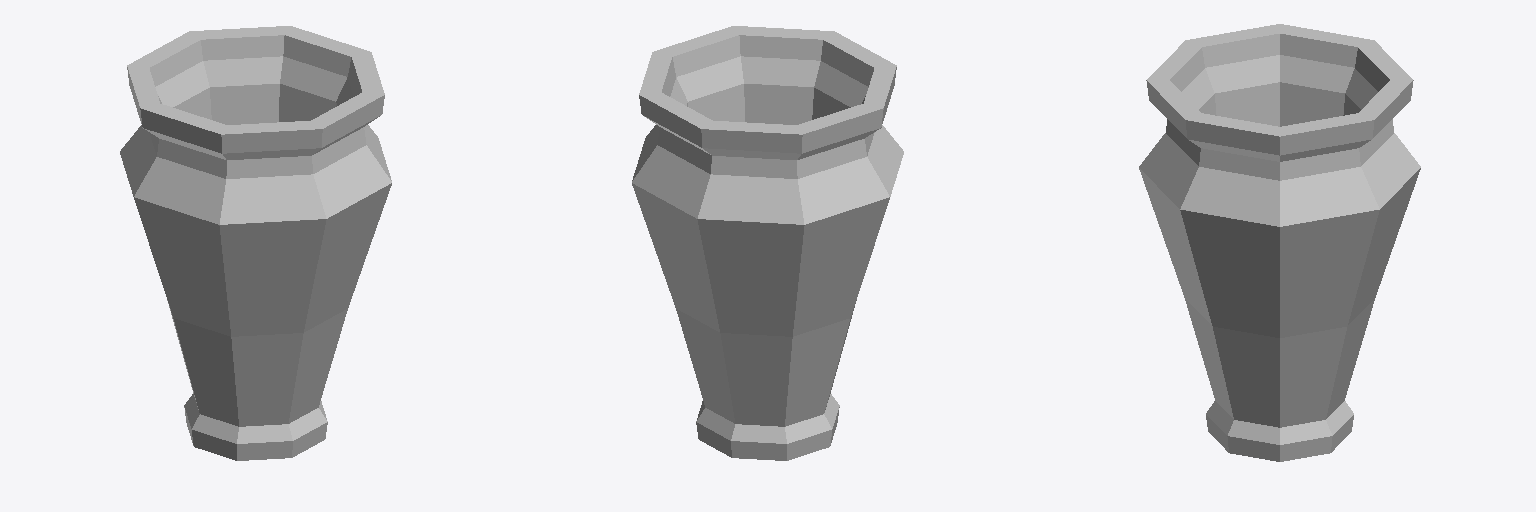
The model's file is Vase.obj.
The picture shows the model from 3 angles: view 1: azimuth 30°, elevation 25°; view 2: azimuth 150°, elevation 25°; view 3: azimuth 270°, elevation 25°; orthographic projection.
Parts seen in each view (by area): view 1: Vase; view 2: Vase; view 3: Vase.
Part boxes in pixels (x1,y1,x2,y2): Vase: (120, 26, 391, 460); Vase: (632, 26, 903, 460); Vase: (1139, 24, 1420, 461).
Bounding box in the file's own units: 0.2286 × 0.3138 × 0.2286.